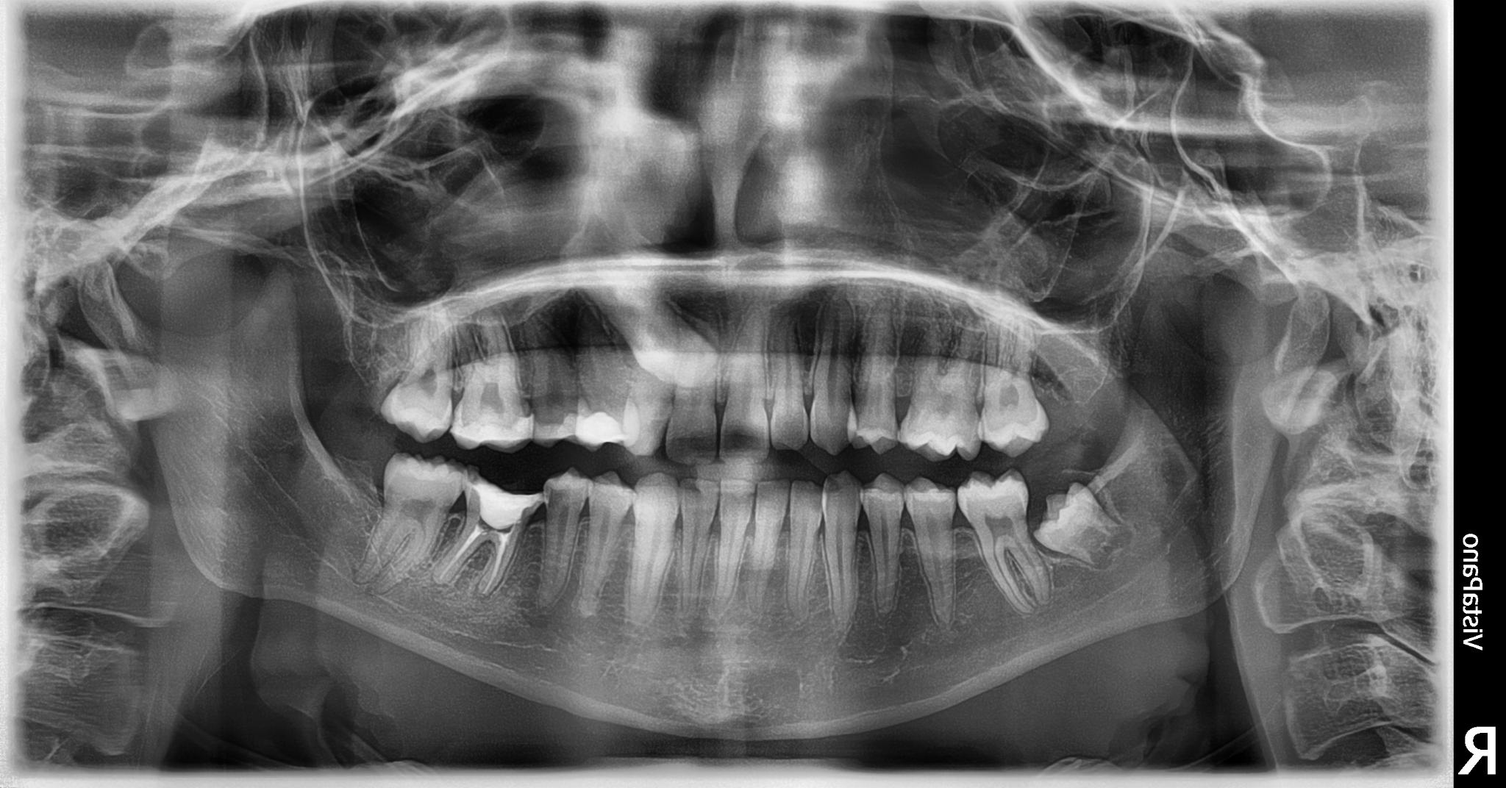Premolars: (561, 248, 1506, 722)
